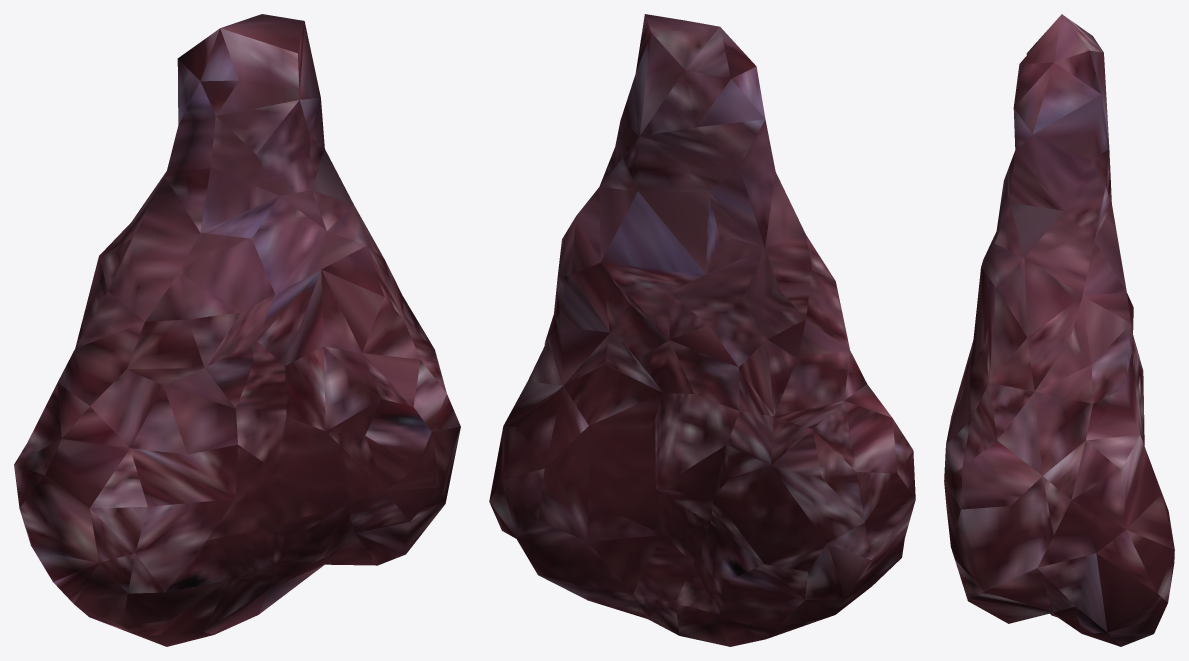
File: AuthenticMeatChunk02.fbx
3 views of the same model, side by side, from view 1: azimuth 30°, elevation 25°; view 2: azimuth 150°, elevation 25°; view 3: azimuth 270°, elevation 25° (orthographic).
Visible parts, largest first — view 1: rock; view 2: rock; view 3: rock.
Boxes of the visible parts, x1,y1,x2,y2 form: rock: [14, 14, 460, 646]; rock: [489, 14, 915, 646]; rock: [944, 14, 1174, 646].
Bounding box in the file's own units: 0.0872 × 0.1273 × 0.0438.
